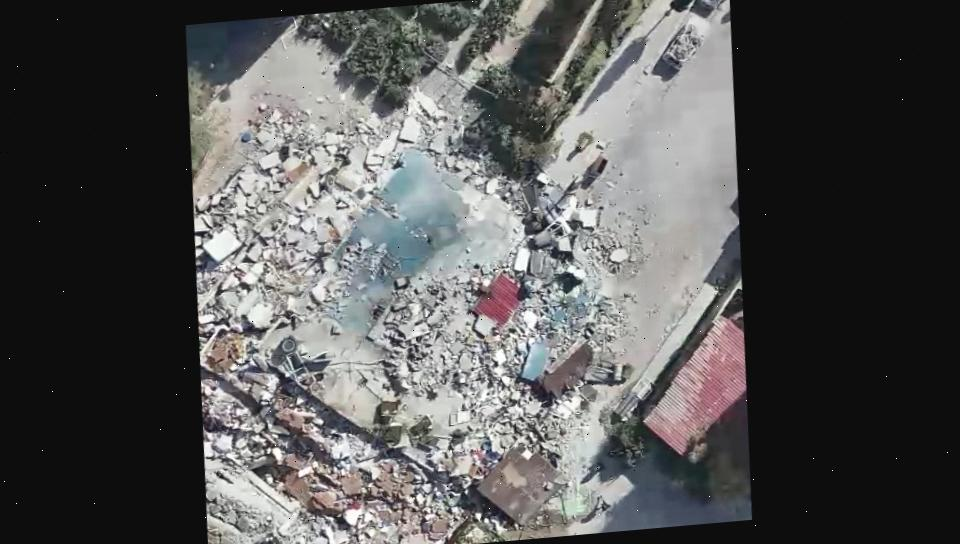kapali: (283, 58, 739, 544)
